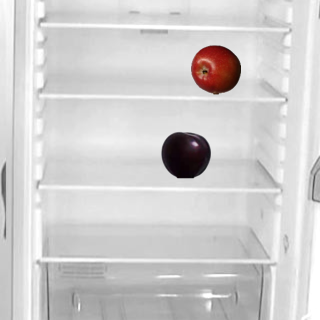Apple Braeburn: (190, 44, 240, 94)
Cherry Wax Black: (160, 129, 210, 179)
